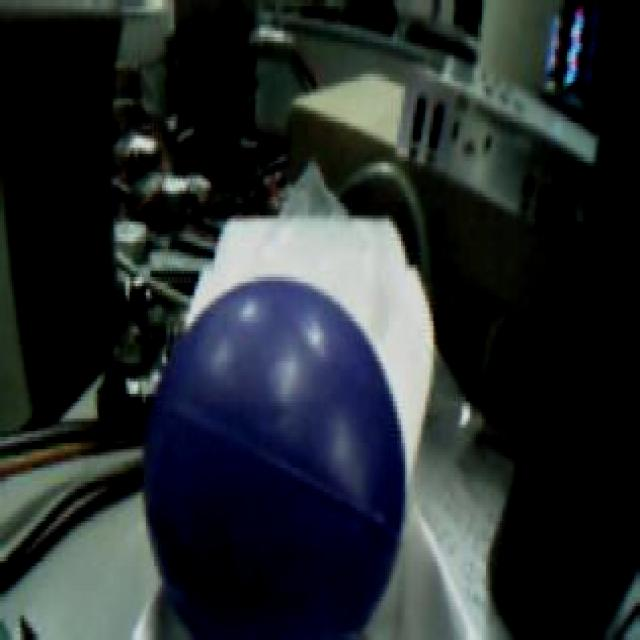BallPurple: (144, 277, 405, 640)
